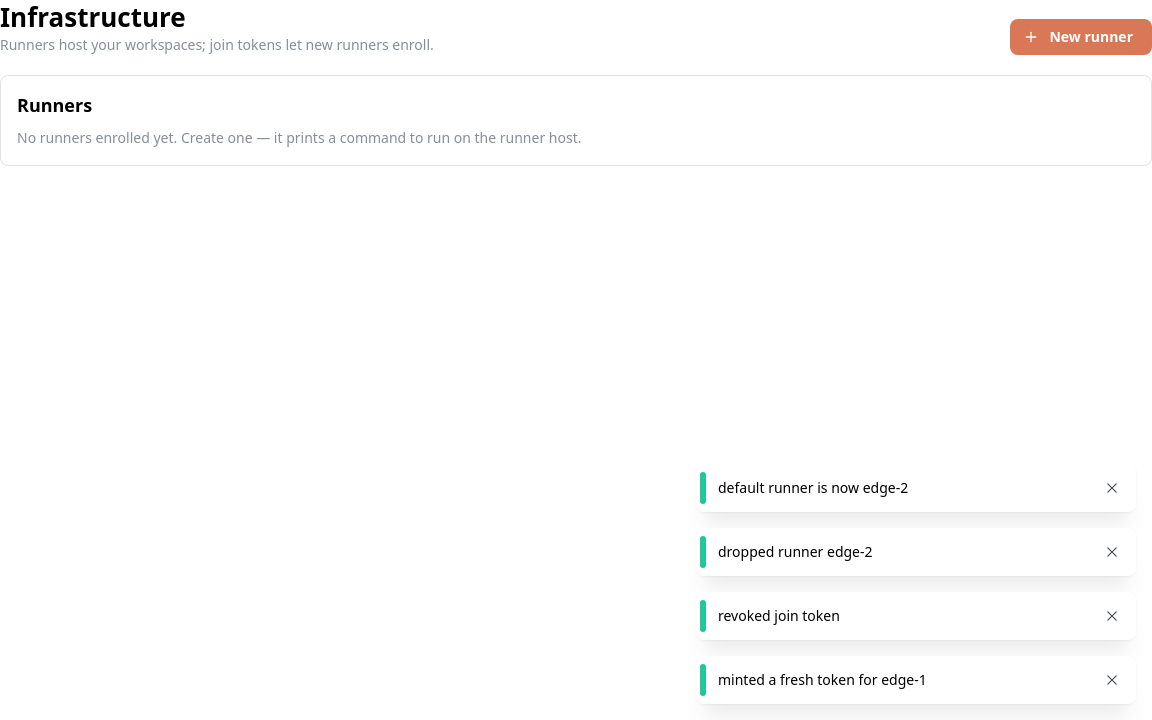
Test: InfrastructureView › opens the create-runner modal
What coordinates should you click on to do the following:
click the button "New runner"
I would click on:
 (1081, 37)
Its box is x1=1010 y1=19 x2=1151 y2=55.
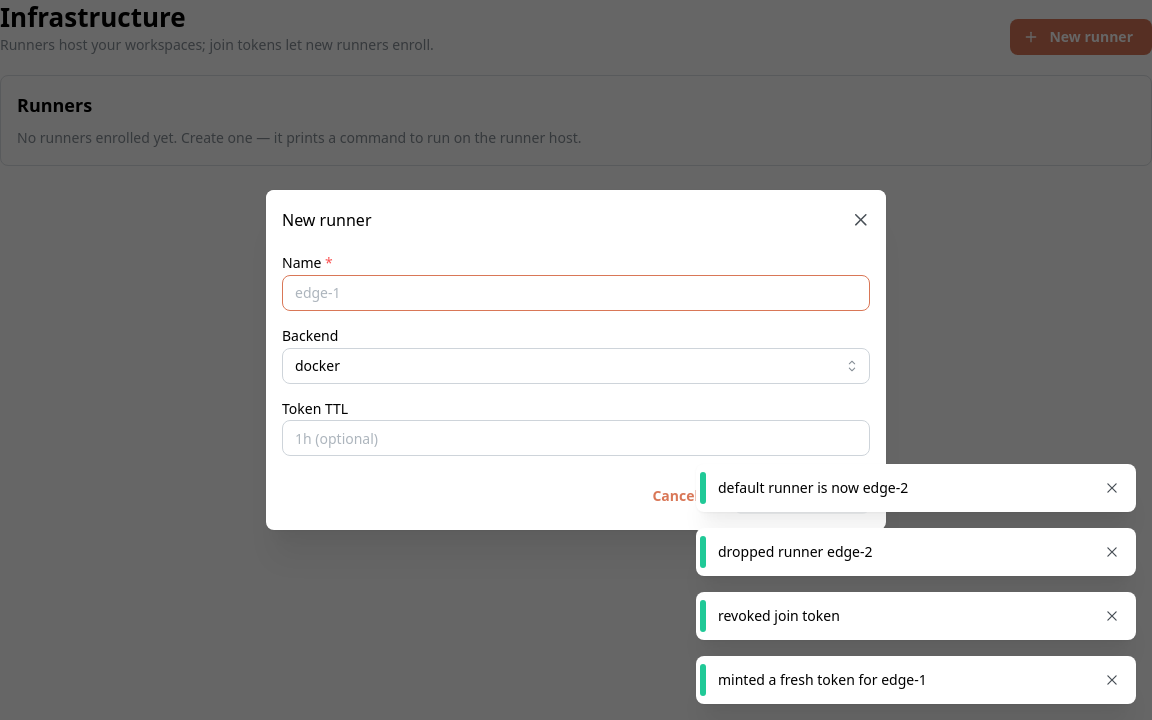
Check: the dialog "New runner" is shown, box x1=266 y1=190 x2=886 y2=530
